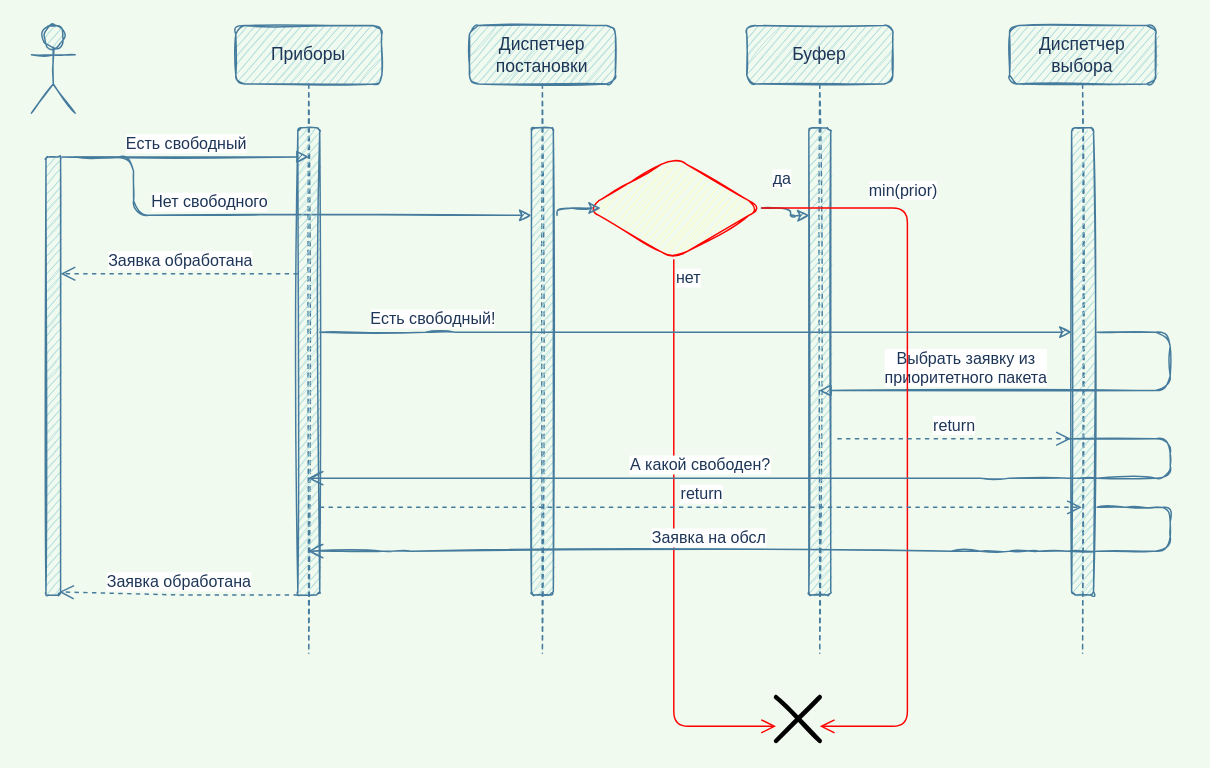
The diagram is 1210 pixels wide and 768 high, and some of its shapes have lost their labels. The centre of each missing label's shape, as x and y in pixels:
Есть место ИЛИ !min(prior): pixel 673 207
Заявки: pixel 52 68
